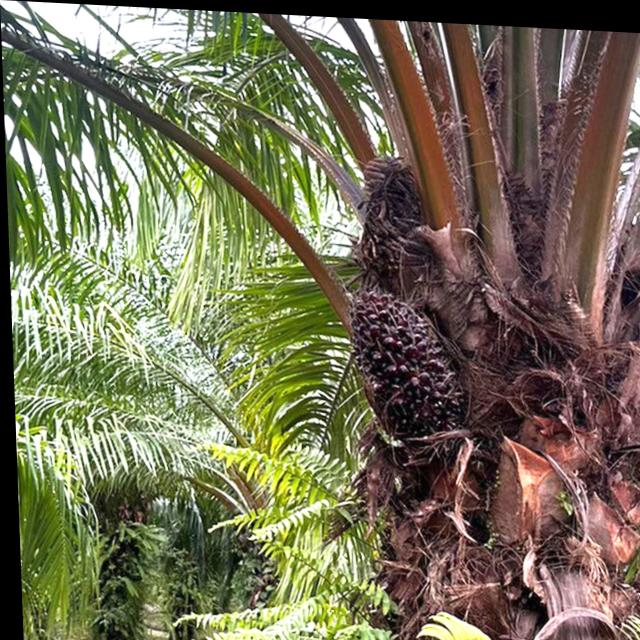ripe: (332, 267, 459, 448)
